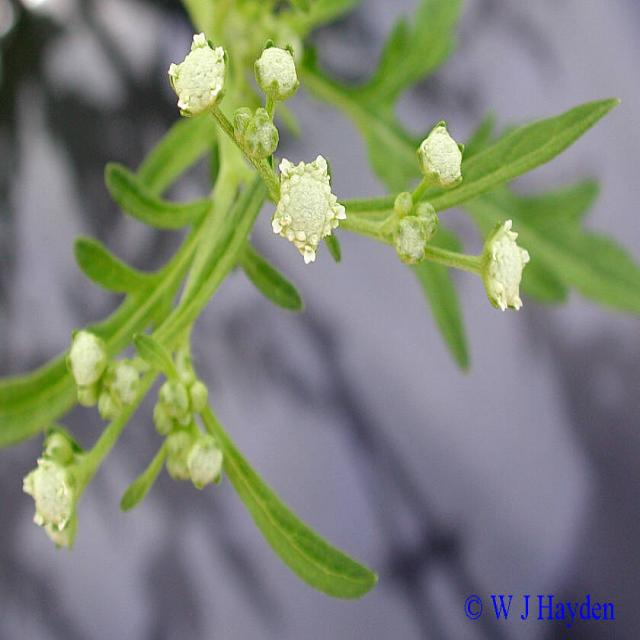Poisonous-Parthenium: (153, 18, 546, 329), (16, 327, 282, 569)
